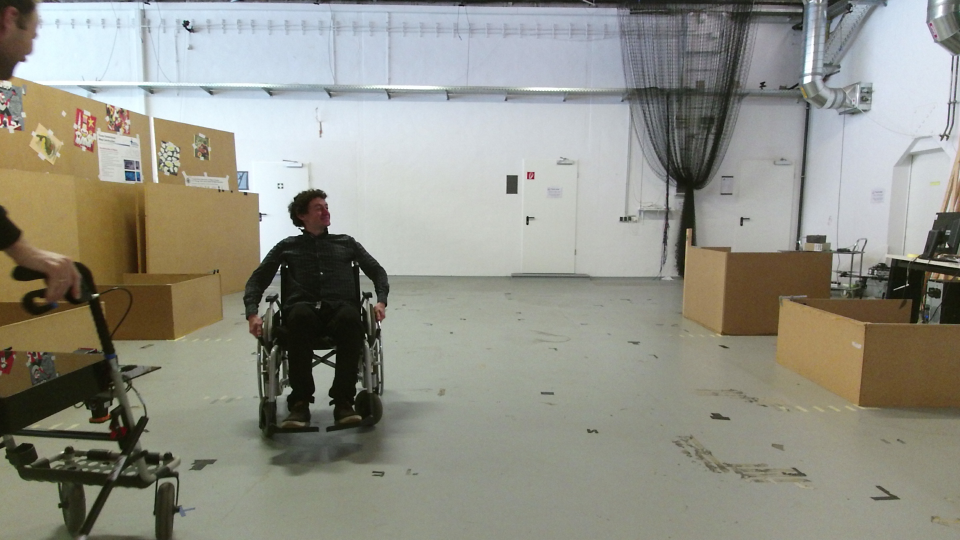wheelchair: (235, 184, 394, 438)
